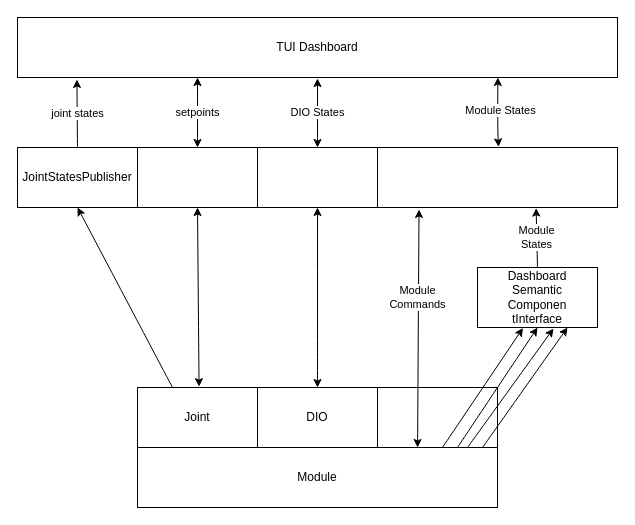
Some shapes in this 635 by 525 pixel diagram are drawn without their labels. The shapes that lost their labels are listed below. From the top down, each one's centre as x and y in pixels, then its label:
At (197,177): "Pos/Vel/... Controller".
At (317,177): "DIO Controller".
At (497,177): "Dashboard Controller".
